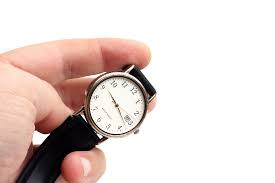clock: (89, 76, 147, 135)
